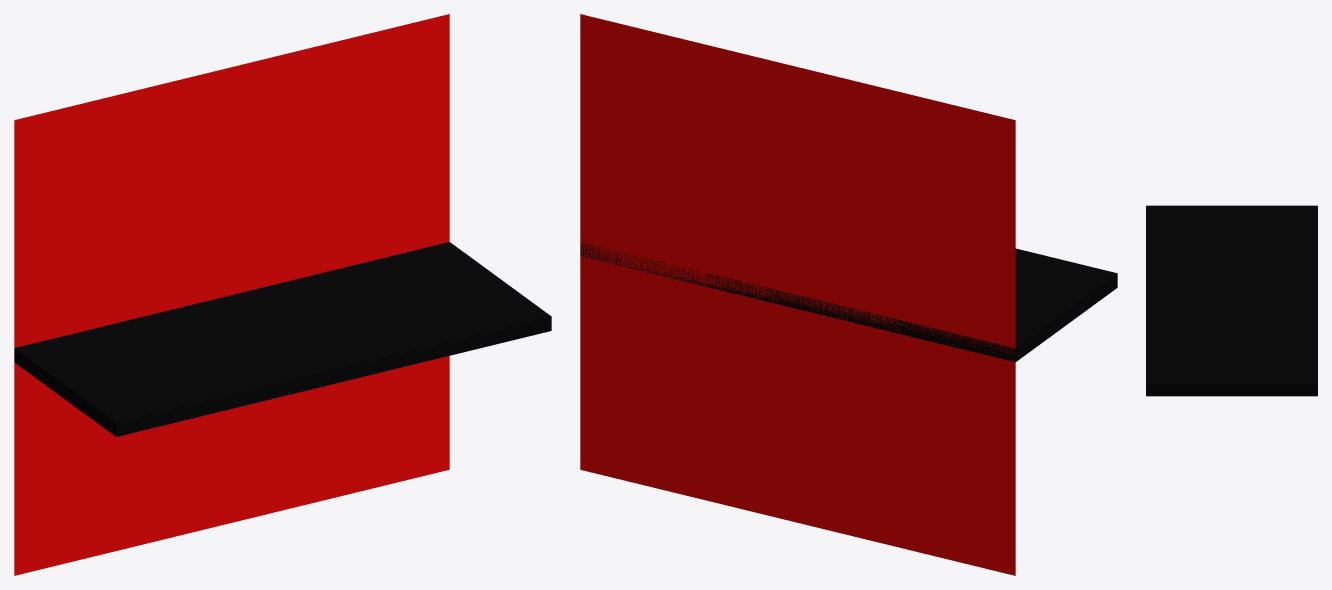
3 renders of one model, left to right at view 1: azimuth 30°, elevation 25°; view 2: azimuth 150°, elevation 25°; view 3: azimuth 270°, elevation 25°, orthographic. The views are drawn at different scales.
Visible parts, largest first — view 1: None_A_P_A_E_A_P_A_E_None; view 2: None_A_P_A_E_A_P_A_E_None; view 3: None_A_P_A_E_A_P_A_E_None.
Part boxes in pixels (box(x1,y1,x2,y2)): None_A_P_A_E_A_P_A_E_None: box(14, 14, 551, 575); None_A_P_A_E_A_P_A_E_None: box(580, 14, 1117, 575); None_A_P_A_E_A_P_A_E_None: box(1146, 205, 1317, 396).
Bounding box in the file's own units: 100 × 100 × 40.62.
